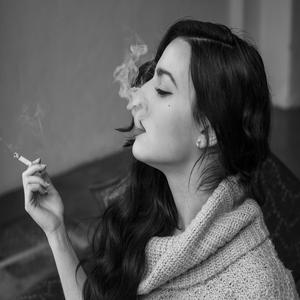cigarette: (12, 151, 41, 169)
